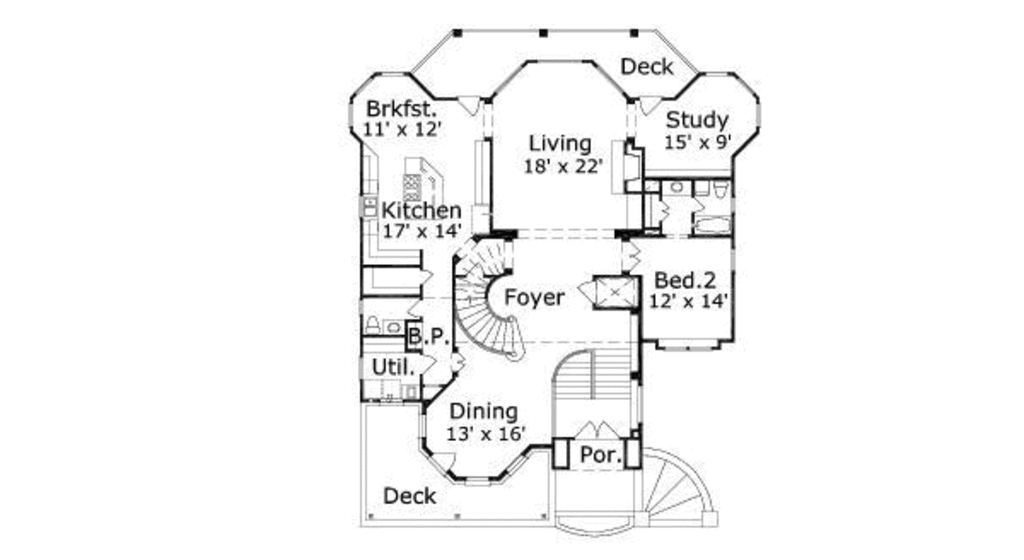door: (572, 418, 616, 442), (429, 449, 459, 475), (449, 94, 478, 116), (638, 96, 663, 119), (626, 240, 641, 272)
large_sink: (362, 314, 385, 339), (712, 179, 731, 201)
small_sink: (663, 177, 692, 201)
stairs: (453, 236, 526, 364), (552, 344, 628, 411)
tub: (691, 217, 731, 236)
twin_sink: (361, 193, 380, 222)
windows: (658, 345, 710, 355)
